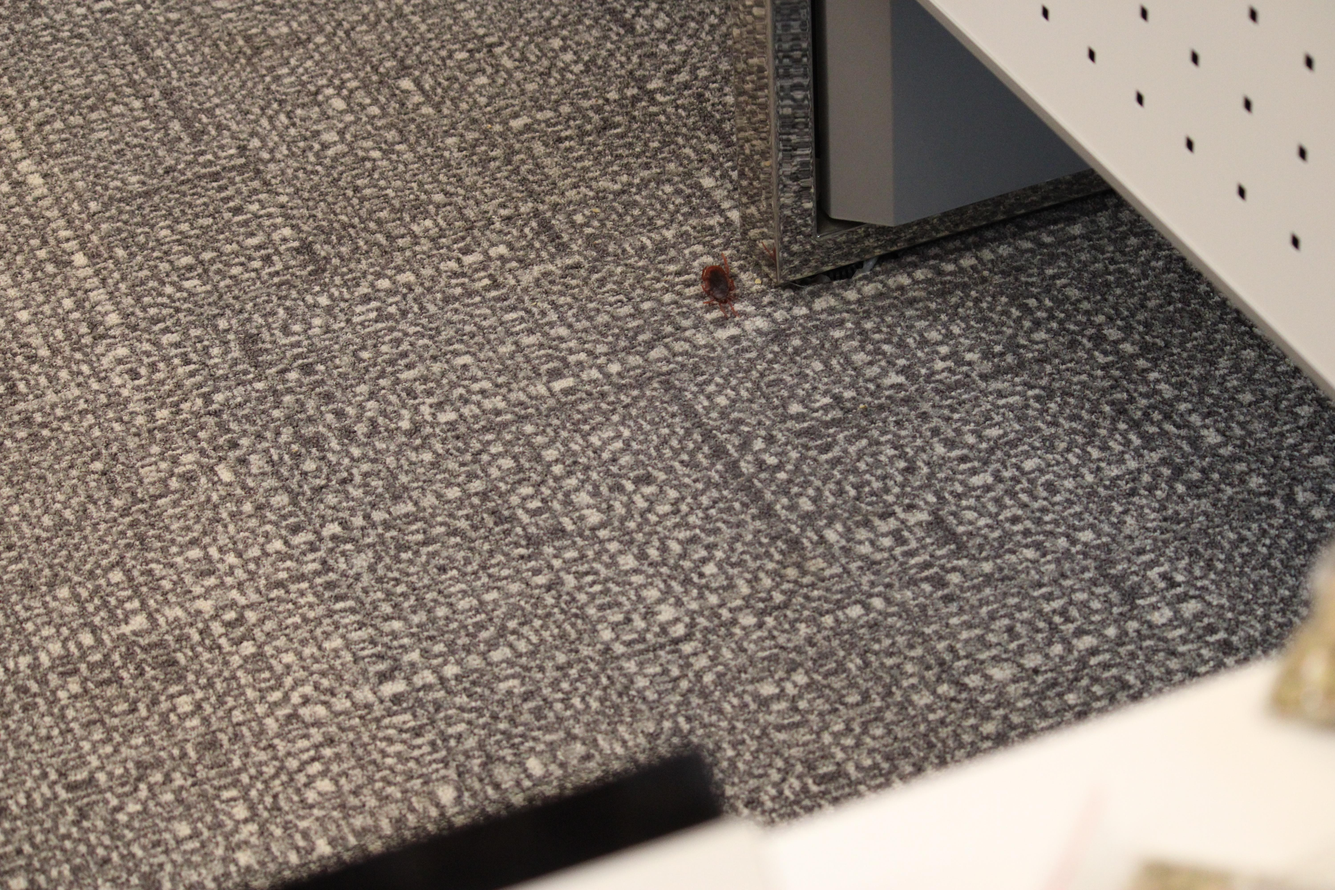cockroach: (686, 250, 747, 328)
